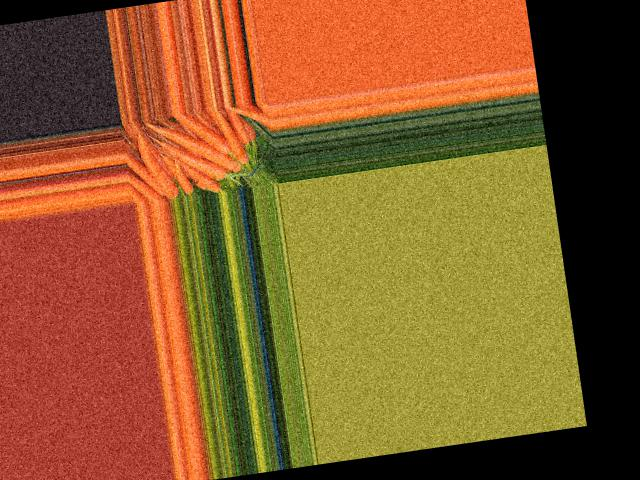carrot: (172, 107, 231, 160)
